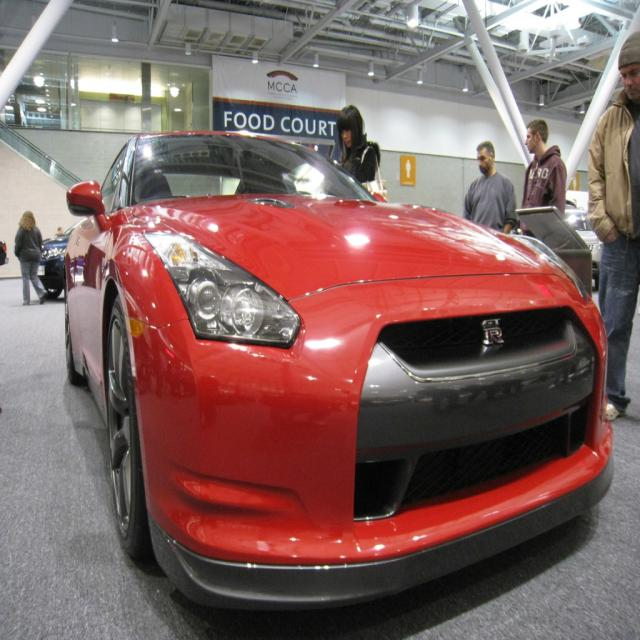Car: (65, 130, 614, 613), (563, 212, 603, 297), (40, 232, 66, 302)
